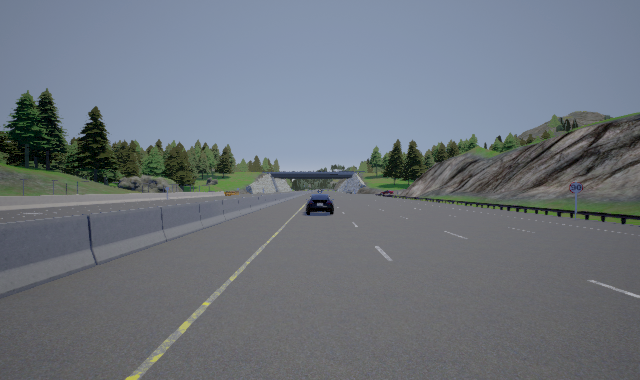traffic_sign: (569, 182, 583, 193)
vehicle: (306, 194, 334, 215)
